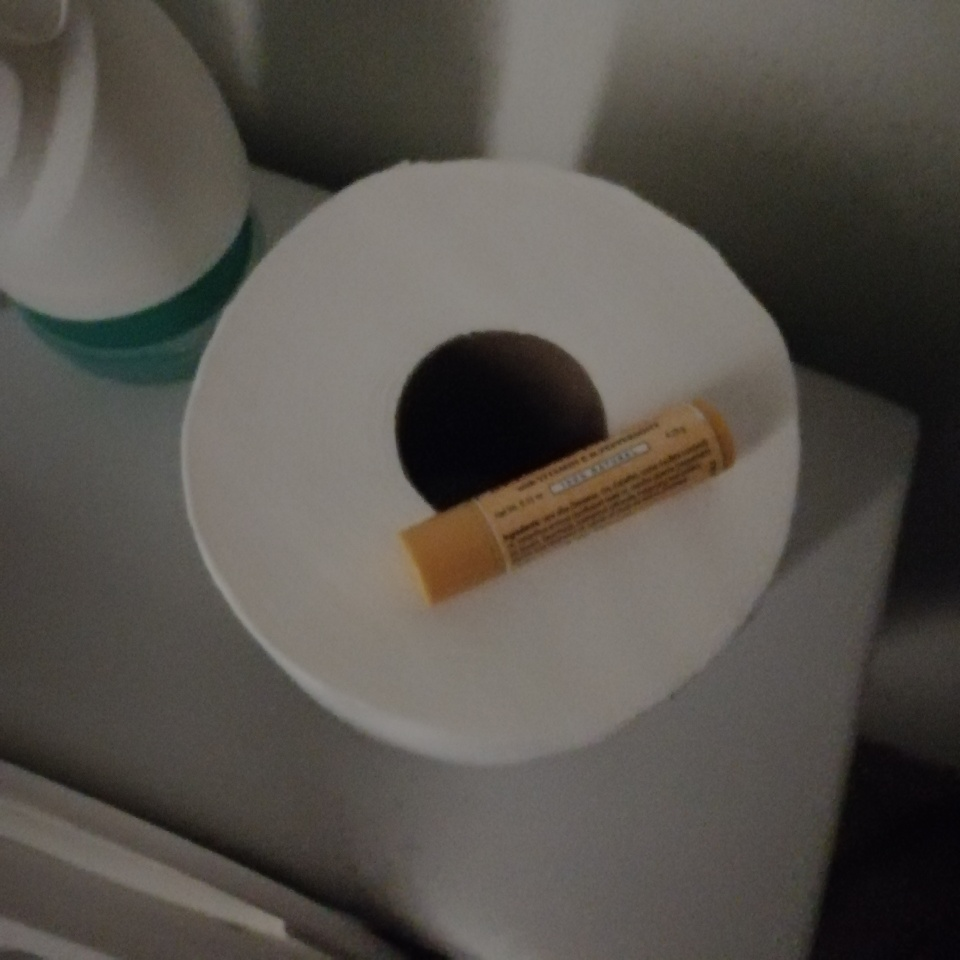chapstick: (399, 396, 740, 609)
